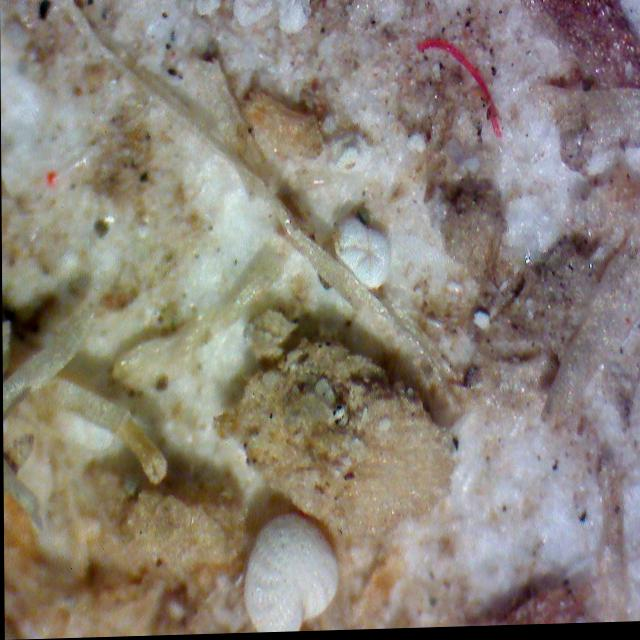microplastic: (415, 27, 515, 153)
